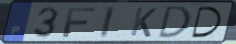3: (32, 6, 61, 39)
D: (156, 5, 193, 40), (190, 5, 224, 39)
F: (61, 7, 97, 39)
I: (98, 5, 117, 40)
K: (129, 7, 160, 39)
